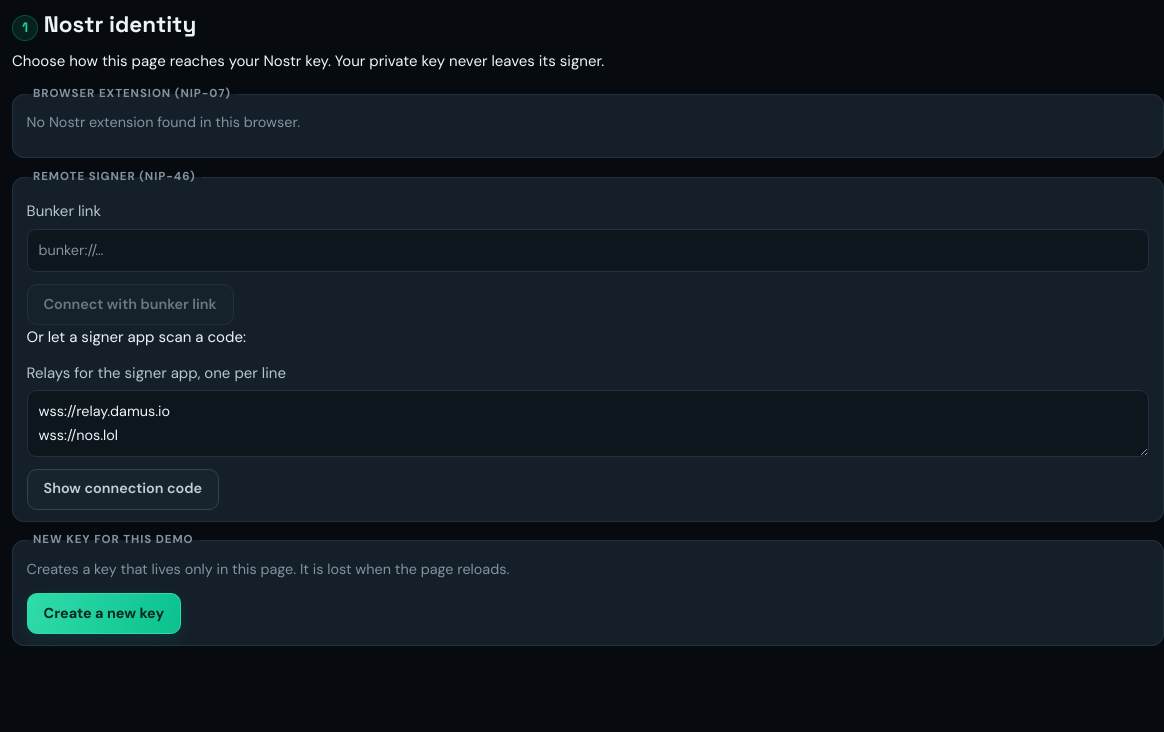
Test: NostrSignerPanel › reports invalid relays for the code
Click the button "Show connection code" at (123, 489), box [27,468,219,510]
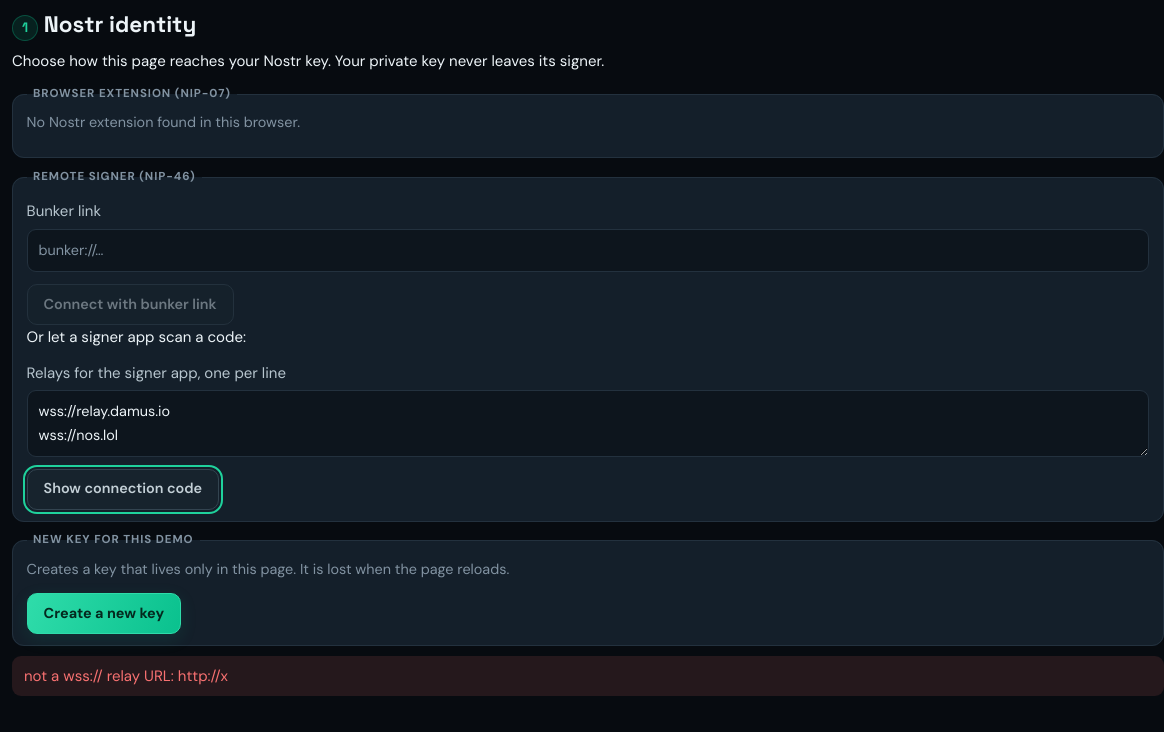
Check: the message shows "not a wss://", box [24,666,228,686]
